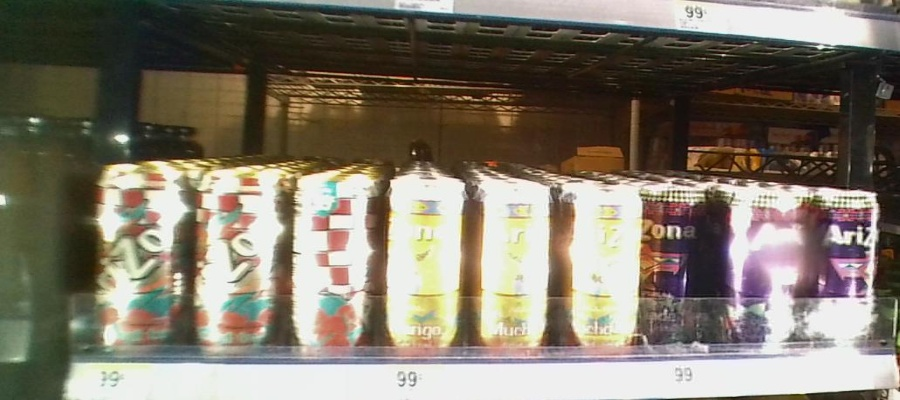bottle: (87, 157, 189, 351), (194, 159, 284, 356), (288, 168, 376, 359), (553, 171, 643, 355), (379, 169, 464, 355), (471, 175, 553, 355), (722, 182, 802, 356), (810, 182, 881, 358), (645, 175, 706, 351)
